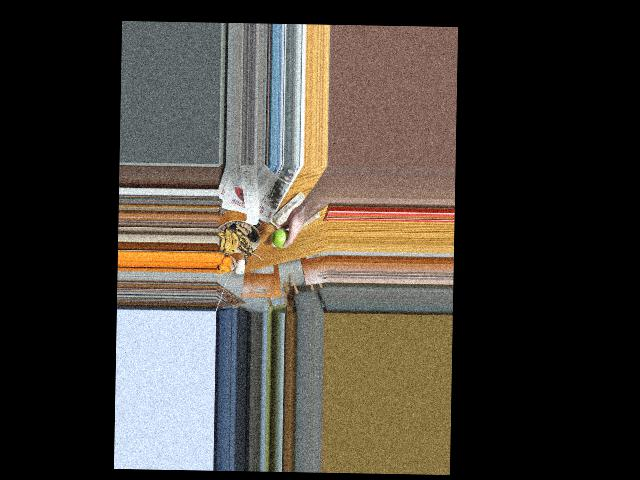apple: (271, 225, 292, 249)
